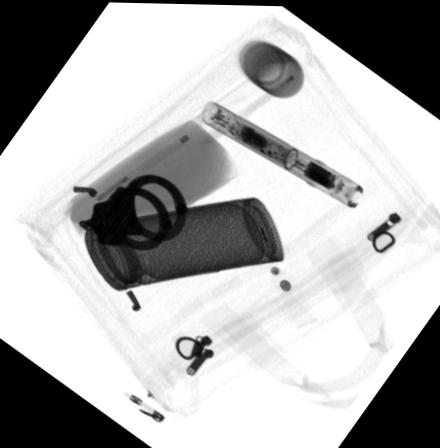Baton: (199, 98, 365, 206)
HandCuffs: (78, 170, 188, 250)
